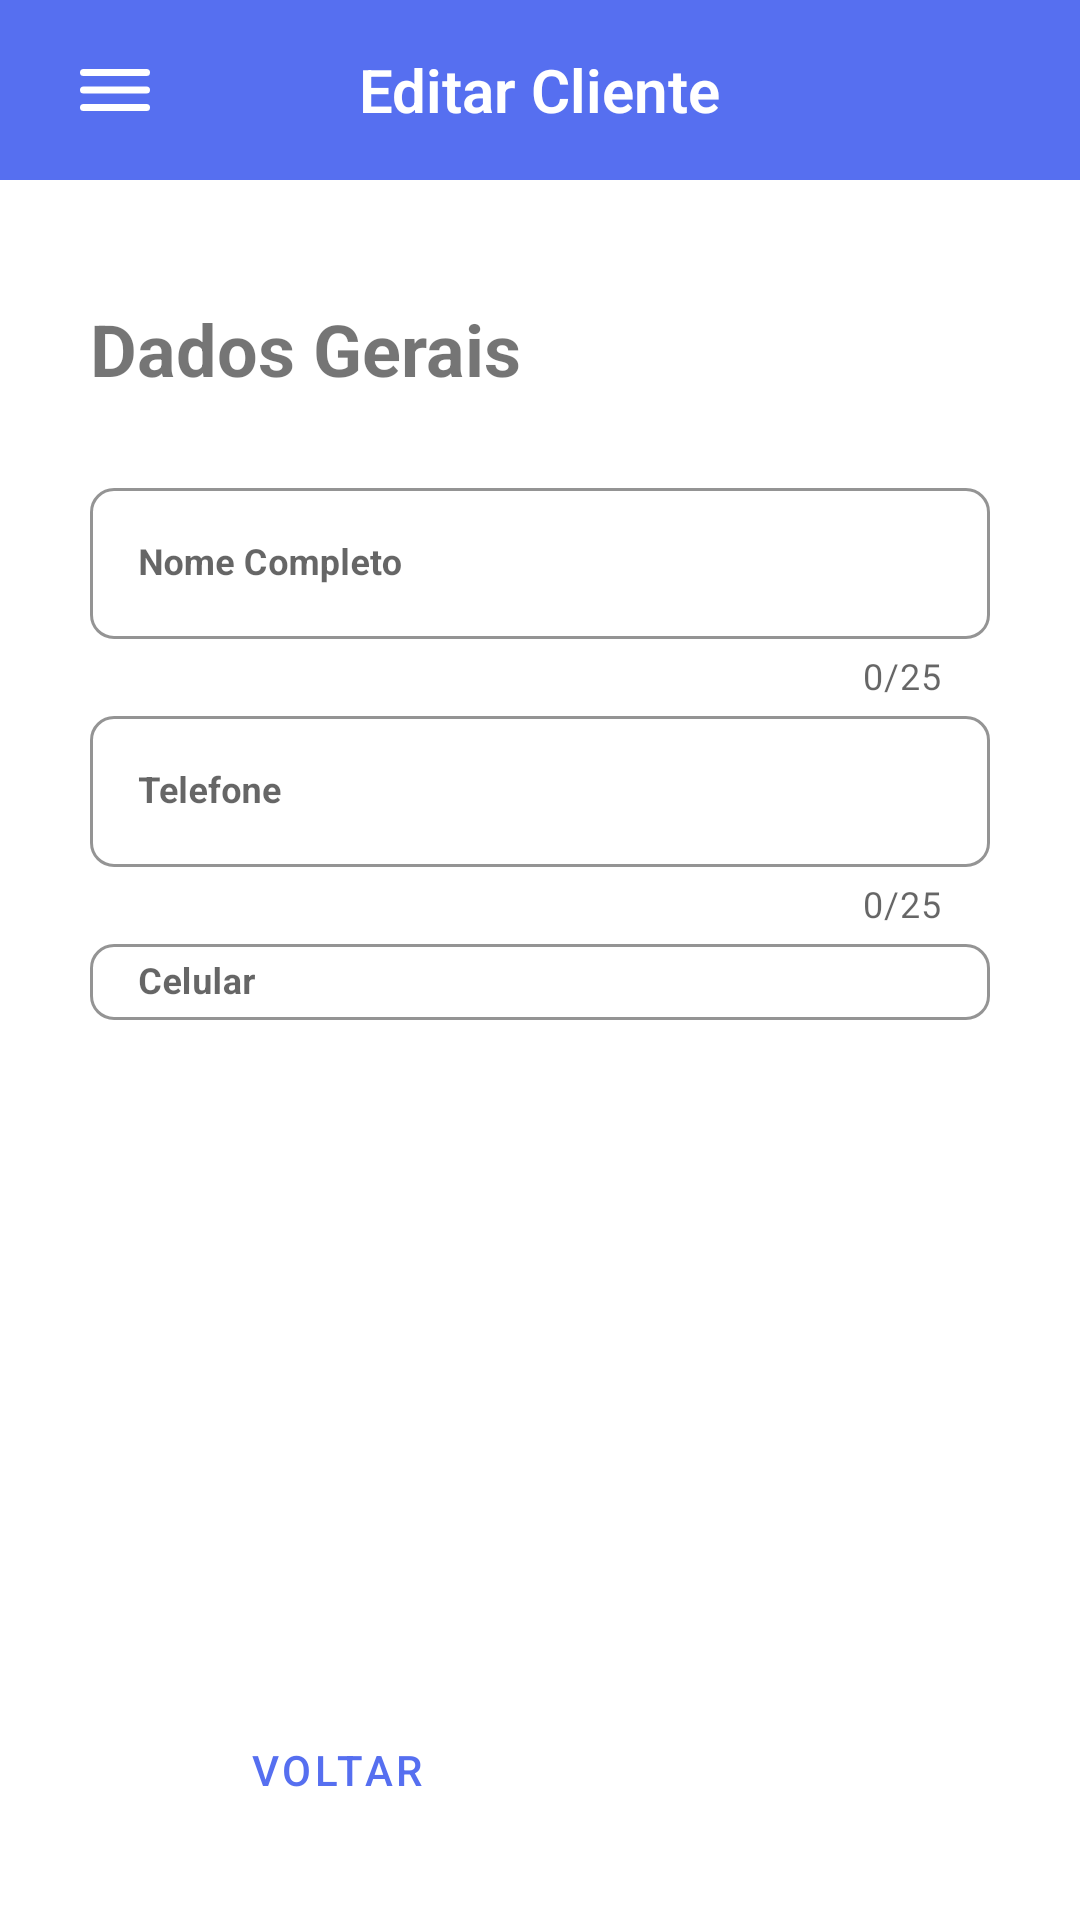

Where to tap for icons on this 1080x1920 app screen, as (x=x, y=y):
hamburger lg: (x=115, y=90)
